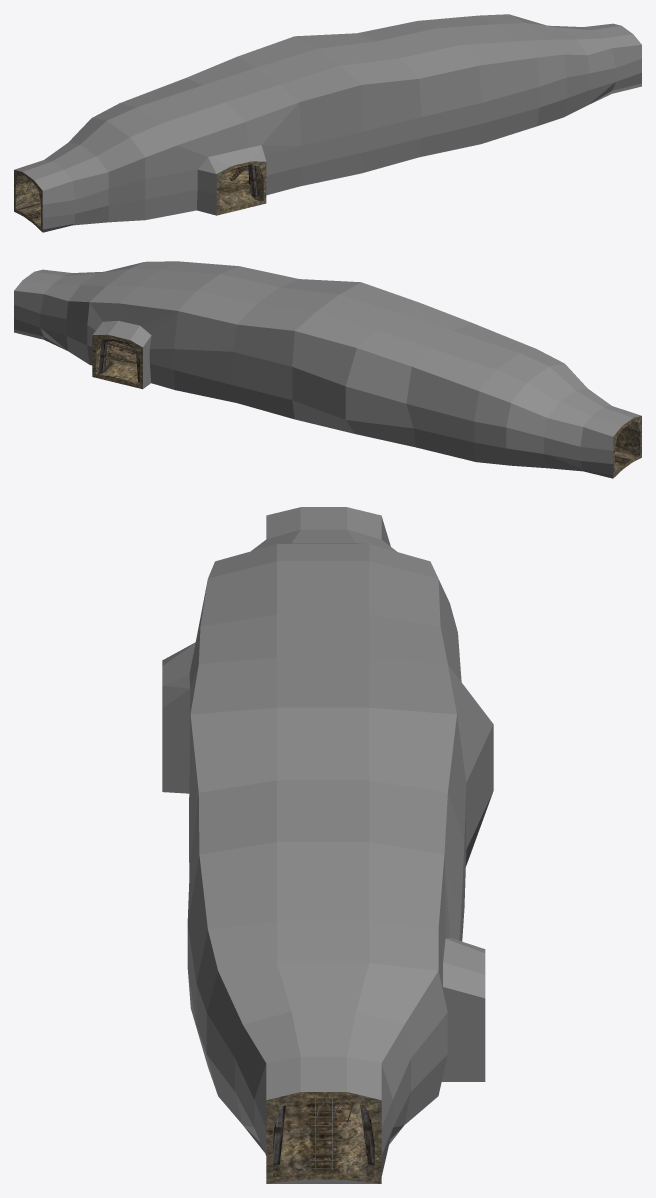
The model's file is svgoldmine03.dae.
3 renders of one model, top to bottom at view 1: azimuth 30°, elevation 25°; view 2: azimuth 150°, elevation 25°; view 3: azimuth 270°, elevation 25°, orthographic. The views are drawn at different scales.
Visible parts, largest first — view 1: unnamed_object1_sep1186-0; view 2: unnamed_object1_sep1186-0, unnamed_object1_sep1070-0; view 3: unnamed_object1_sep1186-0, unnamed_object1-0, unnamed_object1_sep1070-0.
Part boxes in pixels (box(x1,y1,x2,y2)): unnamed_object1_sep1186-0: box(14, 14, 641, 232); unnamed_object1_sep1186-0: box(14, 261, 641, 478); unnamed_object1_sep1070-0: box(98, 338, 139, 382); unnamed_object1_sep1186-0: box(162, 507, 493, 1183); unnamed_object1-0: box(303, 1098, 353, 1171); unnamed_object1_sep1070-0: box(273, 1104, 374, 1165).
Size of the model in its own units: 18000 by 2639 by 4307.
